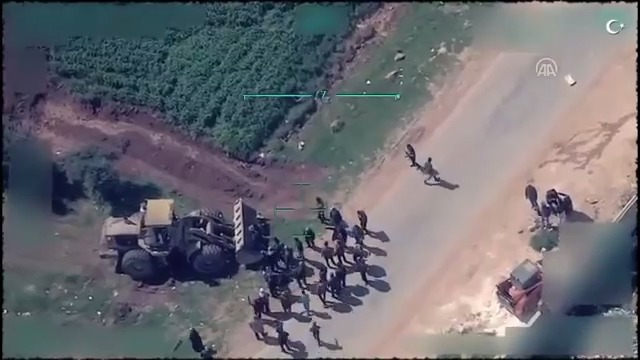arac: (95, 191, 264, 283)
insan: (246, 310, 271, 346), (185, 320, 209, 357), (421, 155, 442, 187), (403, 138, 420, 175), (314, 278, 332, 308), (523, 182, 540, 213), (295, 288, 313, 317), (308, 318, 325, 347), (356, 206, 373, 232), (303, 225, 317, 252)
